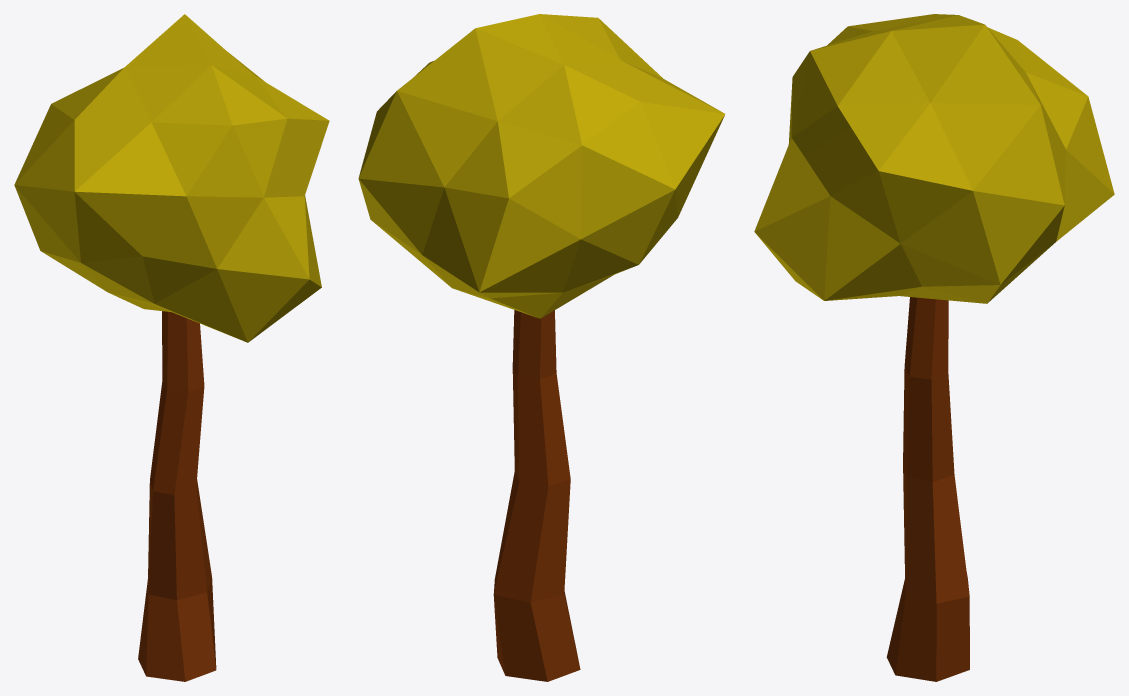
File: Tree_3_Yellow.fbx
3 views of the same model, side by side, from view 1: azimuth 30°, elevation 25°; view 2: azimuth 150°, elevation 25°; view 3: azimuth 270°, elevation 25° (orthographic). The views are drawn at different scales.
Visible parts, largest first — view 1: pPlatonic1, pCylinder2; view 2: pPlatonic1, pCylinder2; view 3: pPlatonic1, pCylinder2.
Boxes of the visible parts, bbox=[...] form: pPlatonic1: bbox=[14, 14, 329, 342]; pCylinder2: bbox=[138, 311, 216, 681]; pPlatonic1: bbox=[358, 14, 725, 318]; pCylinder2: bbox=[493, 310, 580, 681]; pPlatonic1: bbox=[754, 14, 1114, 303]; pCylinder2: bbox=[886, 297, 969, 681].
Size of the model in its own units: 523 by 1104 by 549.
